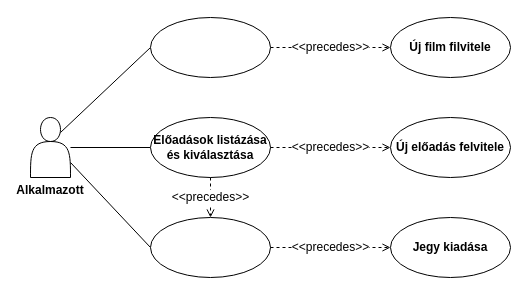
Some shapes in this 528 by 295 pixel diagram are drawn without their labels. Here are the shapes that lost their labels. From the top down, the box of each, then its label:
(150, 16, 270, 78): Filmek listázása
(150, 216, 270, 278): Ülések listázása
